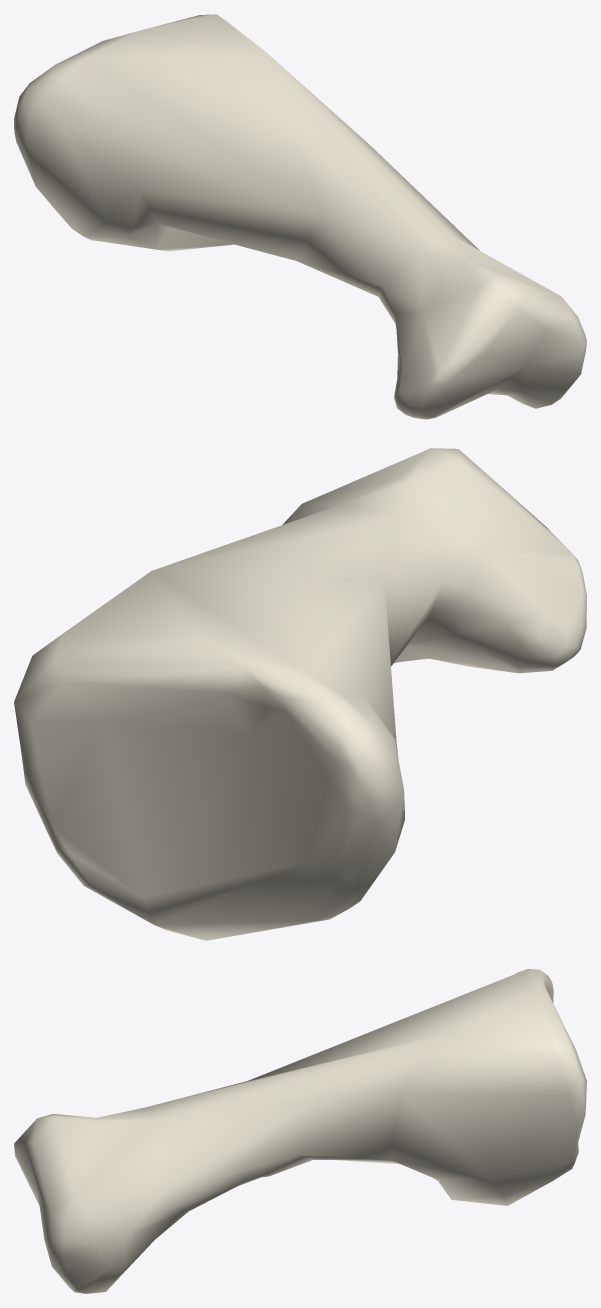
3 renders of one model, top to bottom at view 1: azimuth 30°, elevation 25°; view 2: azimuth 150°, elevation 25°; view 3: azimuth 270°, elevation 25°, orthographic. The views are drawn at different scales.
Visible parts, largest first — view 1: ZA_b310de8c5e1bdb23; view 2: ZA_b310de8c5e1bdb23; view 3: ZA_b310de8c5e1bdb23.
Part boxes in pixels (box(x1,y1,x2,y2)): ZA_b310de8c5e1bdb23: box(14, 14, 586, 419); ZA_b310de8c5e1bdb23: box(14, 448, 586, 940); ZA_b310de8c5e1bdb23: box(14, 969, 586, 1293).
Bounding box in the file's own units: 0.0179 × 0.013 × 0.0294.
